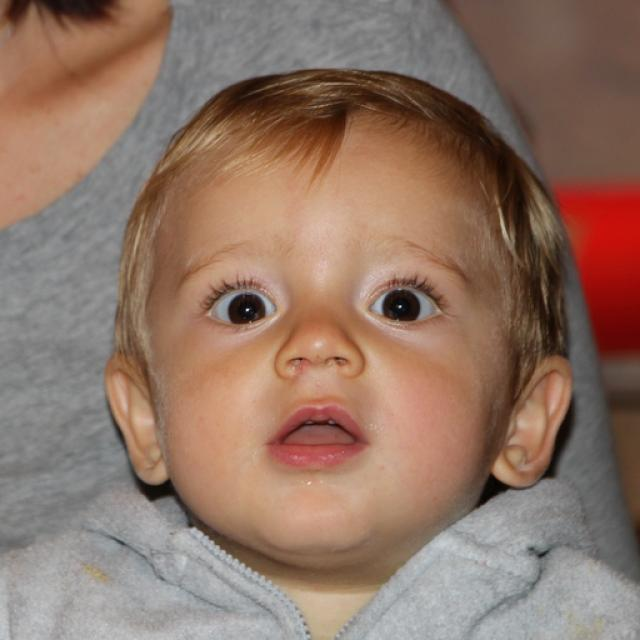fear: (154, 132, 505, 552)
